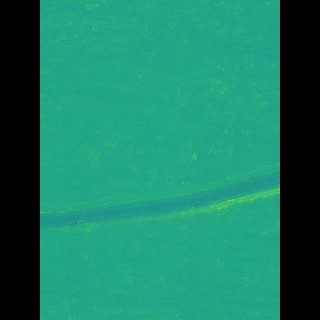Loch: (69, 166, 250, 234)
